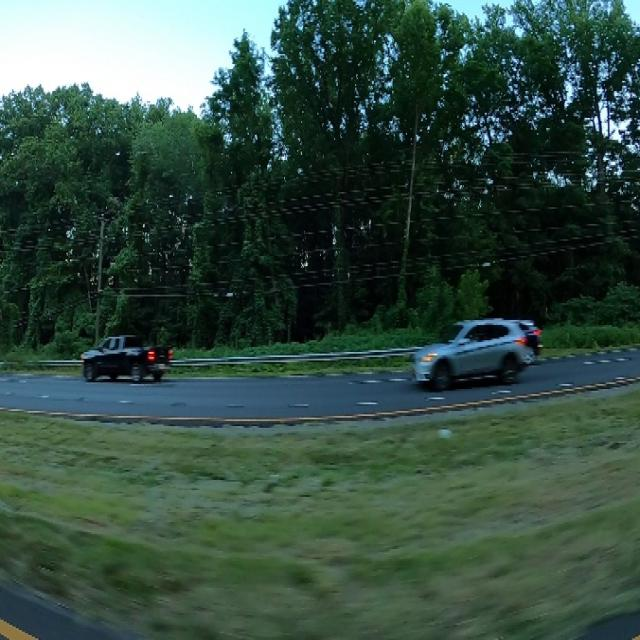car: (412, 310, 538, 392), (75, 318, 179, 389)
